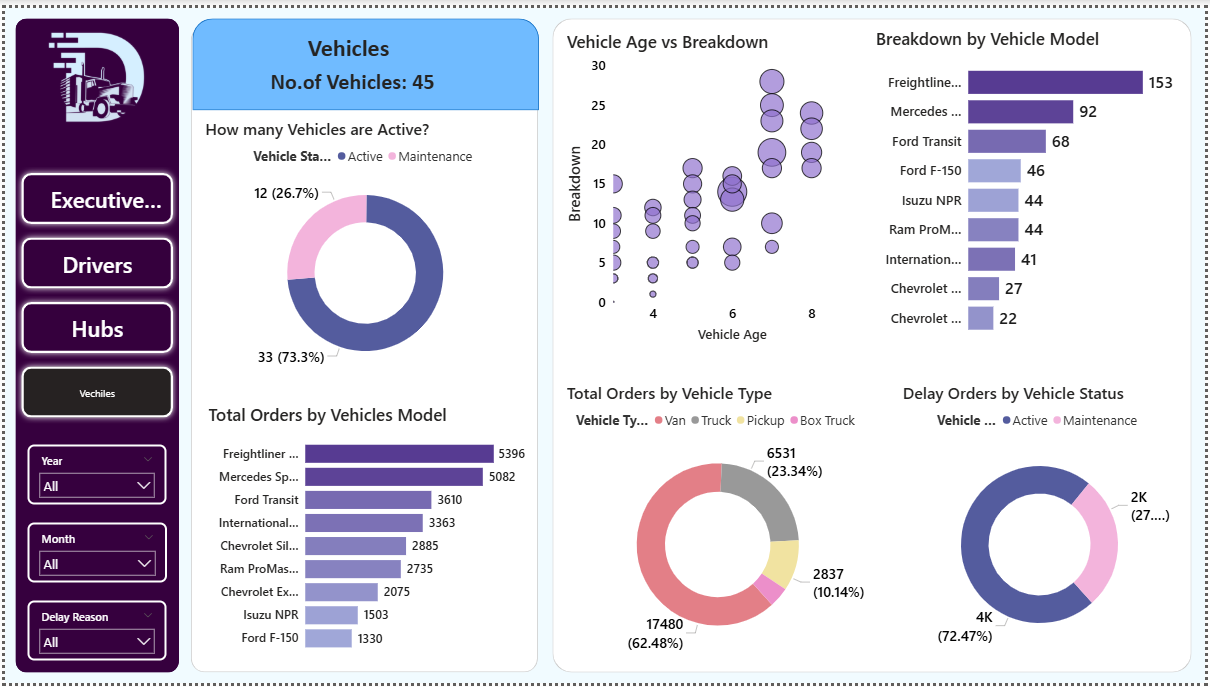

The page's visual inventory and layout, read from the dashboard file:
{"tool":"powerbi","page":{"name":"Vechiles","canvas":[1600,900],"ordinal":3},"visuals":[{"type":"shape","box":[14,14,218,872],"z":0},{"type":"group","id":"g1","title":"Group 2","box":[730,14,852,872],"z":0,"group":"g3"},{"type":"image","box":[14,14,218,166],"z":1000},{"type":"group","id":"g2","title":"Group 2","box":[248,14,464,872],"z":2000},{"type":"textbox","box":[368,28,180,66],"z":3000},{"type":"card","fields":{"Values":["Measure.No.of Vehicles"]},"box":[228,54,470,86],"z":4000},{"type":"barChart","fields":{"Category":["Vehicles.Vehicle Model"],"Y":["Measure.Total Orders"]},"box":[266,526,432,344],"z":5000},{"type":"group","id":"g3","title":"Group 3","box":[730,14,852,872],"z":6000},{"type":"shape","box":[730,14,852,872],"z":6000,"group":"g5"},{"type":"shape","box":[248,24.2,462.4,861.8],"z":6000,"group":"g4"},{"type":"shape","box":[250.2,14,461.8,122.4],"z":7000,"group":"g4"},{"type":"scatterChart","title":"Vehicle Age vs Breakdown","fields":{"X":["Vehicles.Vehicle Age"],"Y":["Vehicles.Breakdown"],"Size":["Sum(Vehicles.Breakdown)1"]},"box":[744,28,394,422],"z":7000},{"type":"barChart","title":"Breakdown by Vehicle Model","fields":{"Category":["Vehicles.Vehicle Model"],"Y":["Sum(Vehicles.Breakdown)"]},"box":[1156,24,410,426],"z":8000},{"type":"donutChart","fields":{"Category":["Orders.Vehicle Type"],"Y":["Measure.Total Orders"]},"box":[744,498,412,372],"z":9000},{"type":"donutChart","fields":{"Category":["Vehicles.Vehicle Status"],"Y":["Measure.Delay Orders"]},"box":[1192,498,374,372],"z":10000},{"type":"textbox","box":[880.3,39.8,467.9,110.9],"z":11000,"group":"g1"},{"type":"textbox","box":[314.2,49.7,269.4,109.6],"z":11000,"group":"g2"},{"type":"pageNavigator","box":[14,212,218,344],"z":11000},{"type":"slicer","fields":{"Values":["Date Table.Year"]},"box":[30,582.5,185,80],"z":12000},{"type":"slicer","fields":{"Values":["Date Table.Month"]},"box":[30,686.2,186,80],"z":13000},{"type":"slicer","fields":{"Values":["Orders.Delay Reason"]},"box":[30,790,185,80],"z":14000},{"type":"group","id":"g4","title":"Group 1","box":[248,14,464,872],"z":14001,"group":"g2"},{"type":"group","id":"g5","title":"Group 1","box":[730,14,852,872],"z":14001,"group":"g1"},{"type":"donutChart","title":"How many Vehicles are Active?","fields":{"Category":["Vehicles.Vehicle Status"],"Y":["CountNonNull(Vehicles.Vehicle ID)"]},"box":[262,146,436,352],"z":17003,"group":"g4"}]}

Visuals, with their boxes in screenshot pixels (x1, y1, x2, y2), scaled from the page's 1600x900 canvas onto the 1210x687 screenshot:
shape: 11,11,175,676
"Group 2" group: 552,11,1196,676
image: 11,11,175,137
"Group 2" group: 188,11,538,676
textbox: 278,21,414,72
card - Measure.No.of Vehicles: 172,41,528,107
barChart - Vehicles.Vehicle Model x Measure.Total Orders: 201,402,528,664
"Group 3" group: 552,11,1196,676
shape: 552,11,1196,676
shape: 188,18,537,676
shape: 189,11,538,104
"Vehicle Age vs Breakdown" scatterChart: 563,21,861,344
"Breakdown by Vehicle Model" barChart: 874,18,1184,344
donutChart - Orders.Vehicle Type x Measure.Total Orders: 563,380,874,664
donutChart - Vehicles.Vehicle Status x Measure.Delay Orders: 901,380,1184,664
textbox: 666,30,1020,115
textbox: 238,38,441,122
pageNavigator: 11,162,175,424
slicer - Date Table.Year: 23,445,163,506
slicer - Date Table.Month: 23,524,163,585
slicer - Orders.Delay Reason: 23,603,163,664
"Group 1" group: 188,11,538,676
"Group 1" group: 552,11,1196,676
"How many Vehicles are Active?" donutChart: 198,111,528,380
